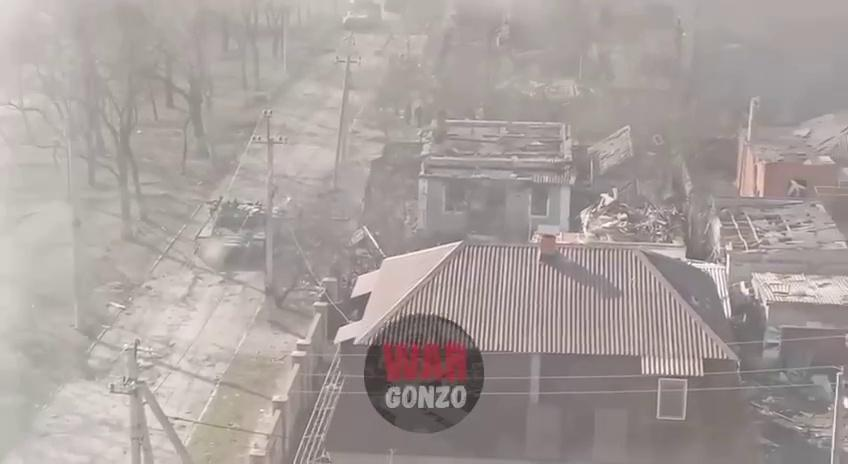tank: (196, 197, 350, 261)
